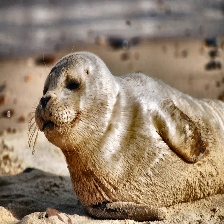seal: (31, 52, 224, 222)
